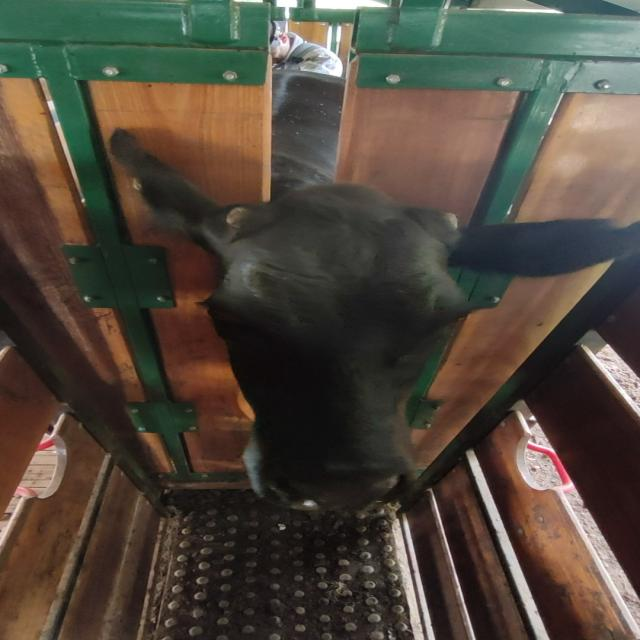cowFace: (204, 193, 483, 514)
